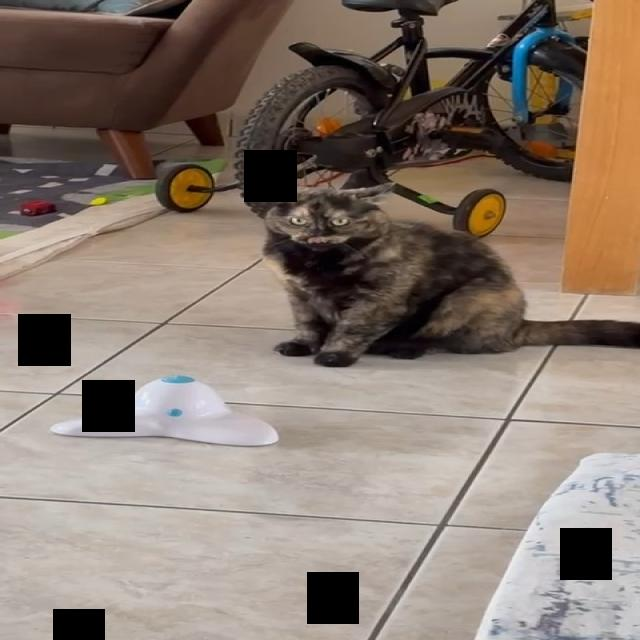authorized: (260, 176, 639, 367)
